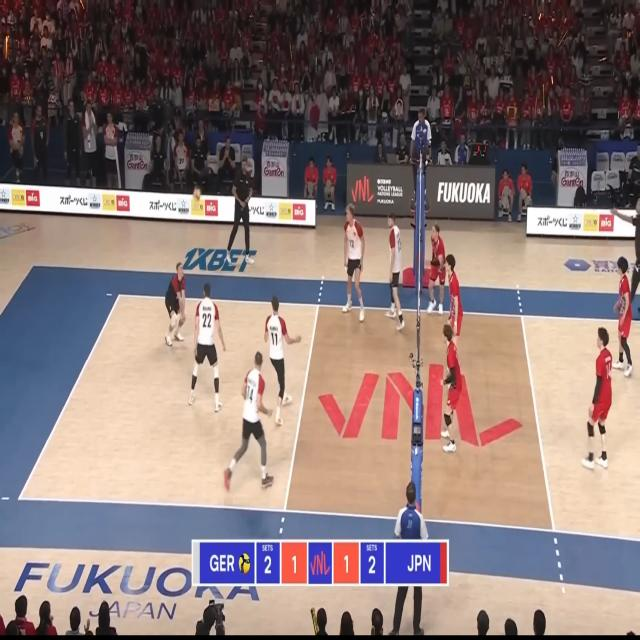ball: (193, 189, 200, 201)
